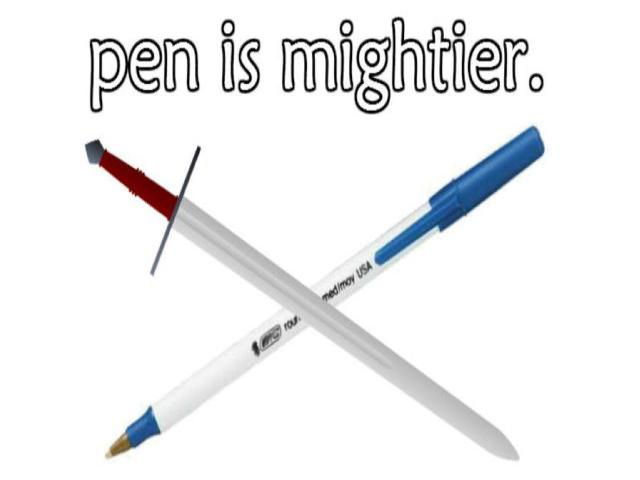PEN: (78, 93, 579, 480)
